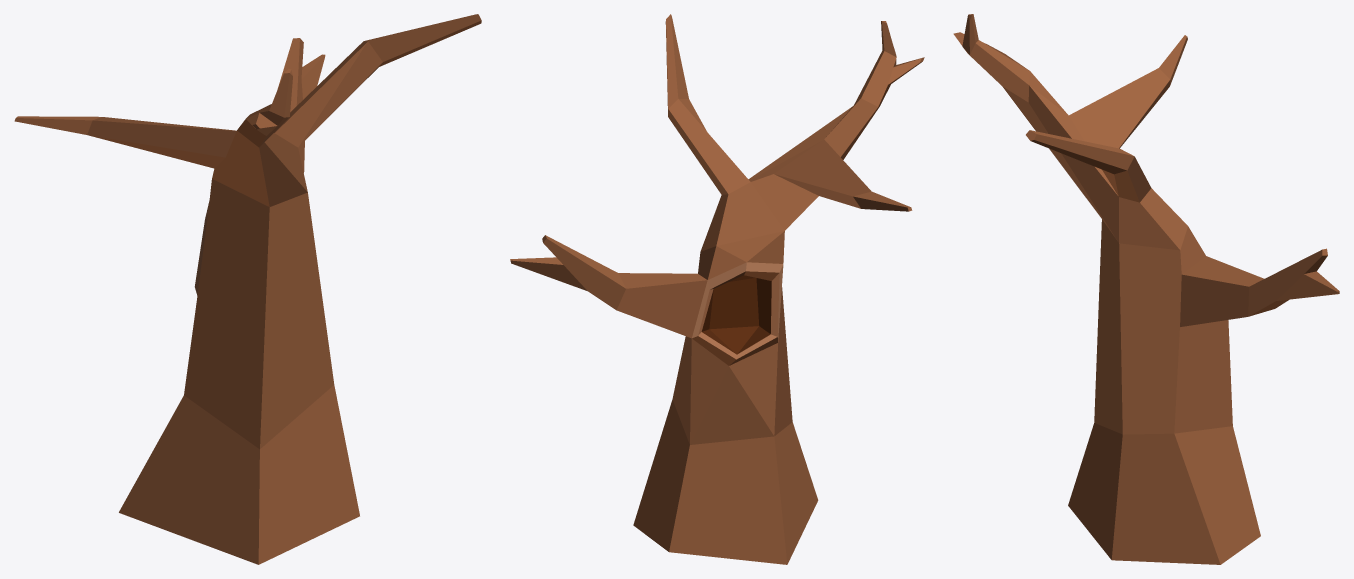
Rendered from TreeAutumn9_Alt3.fbx.
The picture shows the model from 3 angles, left to right: view 1: azimuth 30°, elevation 25°; view 2: azimuth 150°, elevation 25°; view 3: azimuth 270°, elevation 25°; orthographic projection. The views are drawn at different scales.
Visible parts, largest first — view 1: TreeAutumn9_Alt3; view 2: TreeAutumn9_Alt3; view 3: TreeAutumn9_Alt3.
Part boxes in pixels (x1,y1,x2,y2): TreeAutumn9_Alt3: (14, 14, 481, 564); TreeAutumn9_Alt3: (510, 14, 924, 564); TreeAutumn9_Alt3: (953, 14, 1339, 564).
Size of the model in its own units: 1.2 by 1.57 by 1.14.
